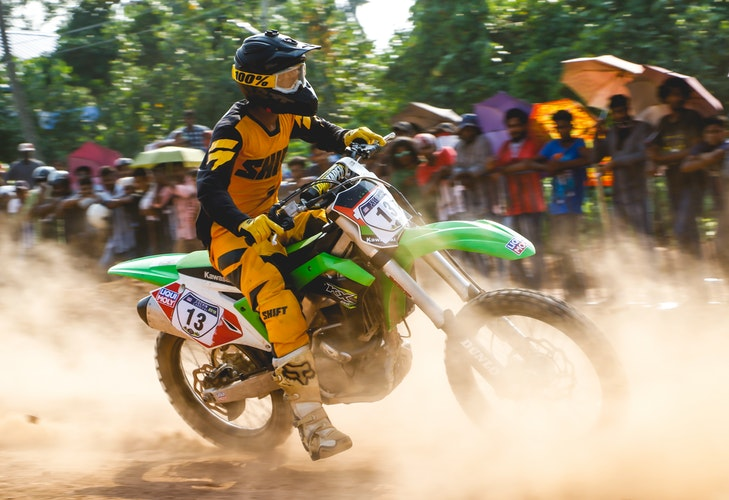helmet: (230, 30, 337, 119)
